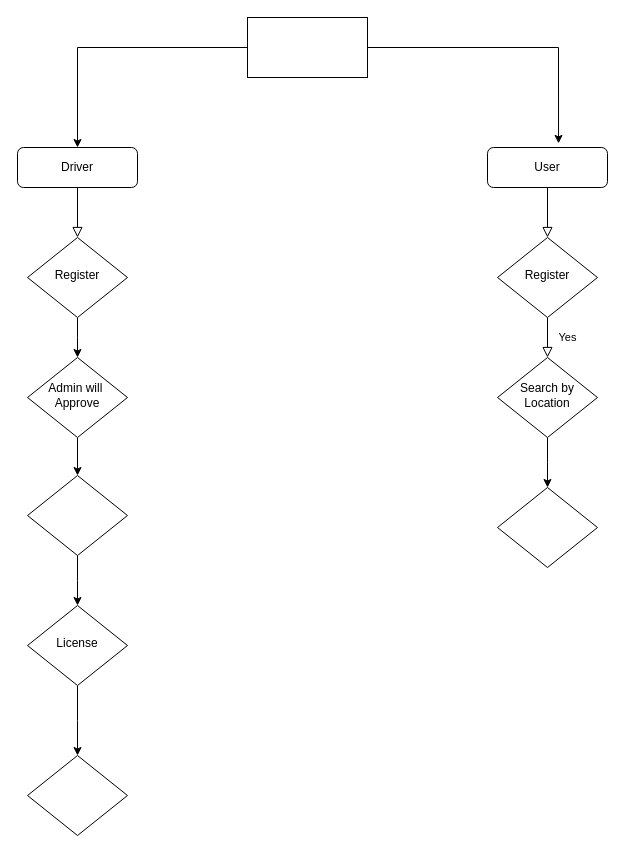
Image size: 625x853. Some labels were removed from this diagram. Here are the shapes that lost their labels. From the top down, the centre of each, then its label:
(307,47): Application
(77,515): Upload Aadhar
(547,527): GetDriver Detail
(77,795): Driver Picture
